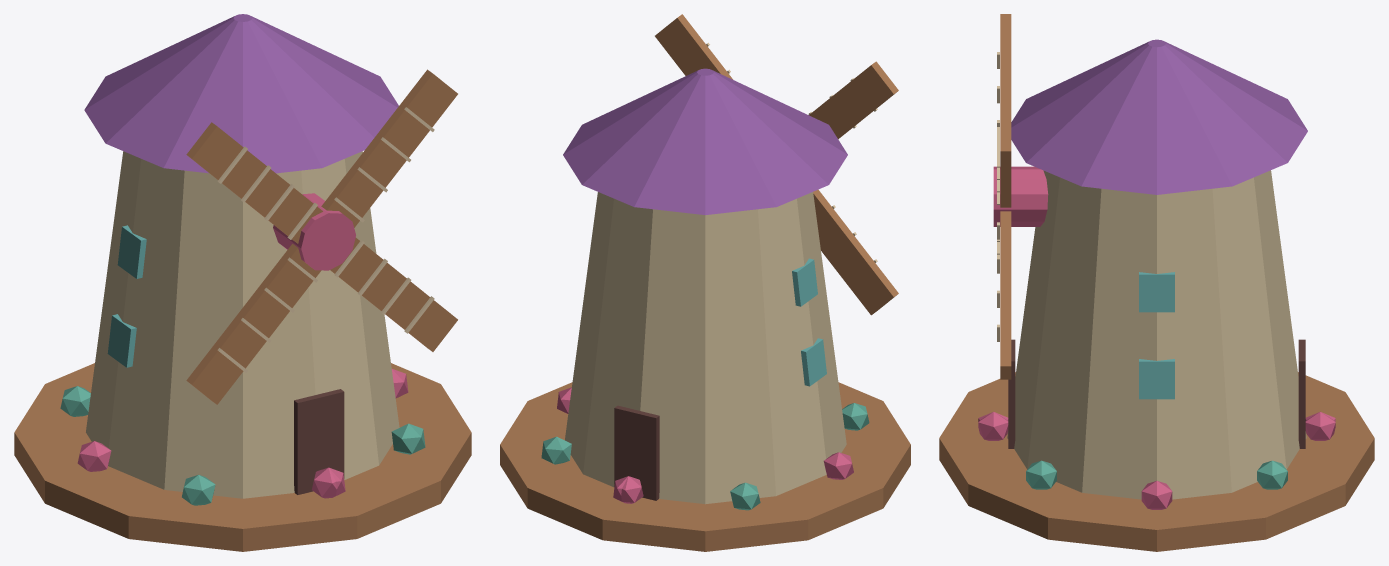
File: Candyland_SugarWindmillLandmark_Showcase.glb
3 renders of one model, left to right at view 1: azimuth 30°, elevation 25°; view 2: azimuth 150°, elevation 25°; view 3: azimuth 270°, elevation 25°, orthographic. The views are drawn at different scales.
Visible parts, largest first — view 1: Candyland_SugarWindmillLandmark_Showcase; view 2: Candyland_SugarWindmillLandmark_Showcase; view 3: Candyland_SugarWindmillLandmark_Showcase.
Part boxes in pixels (x1=…): Candyland_SugarWindmillLandmark_Showcase: x1=14, y1=14, x2=471, y2=551; Candyland_SugarWindmillLandmark_Showcase: x1=500, y1=14, x2=910, y2=551; Candyland_SugarWindmillLandmark_Showcase: x1=939, y1=14, x2=1374, y2=551.
Bounding box in the file's own units: 7.2 × 7.6 × 7.2.
